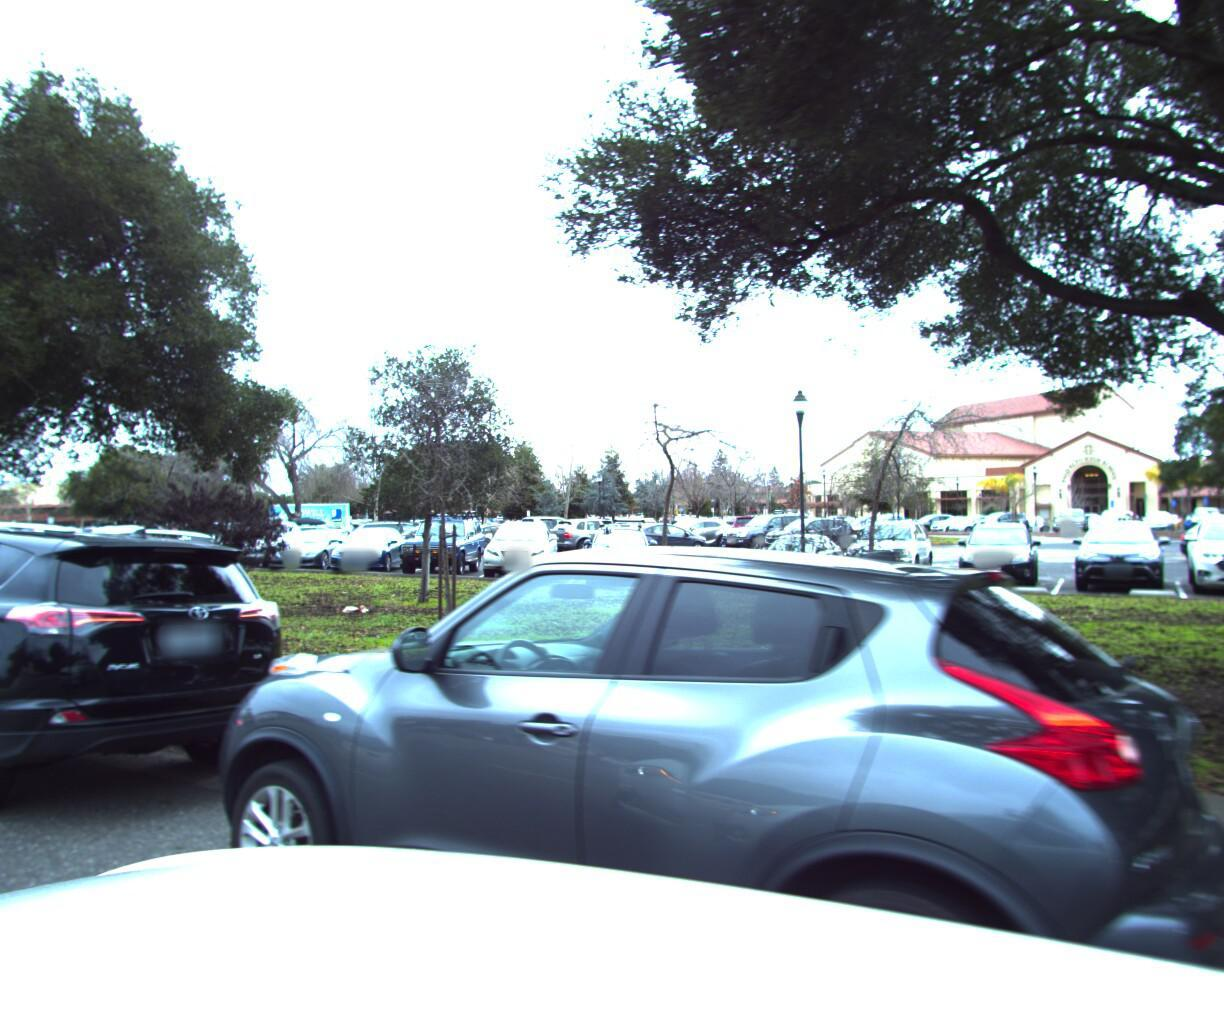car: (133, 540, 1186, 1024), (0, 510, 328, 858)
